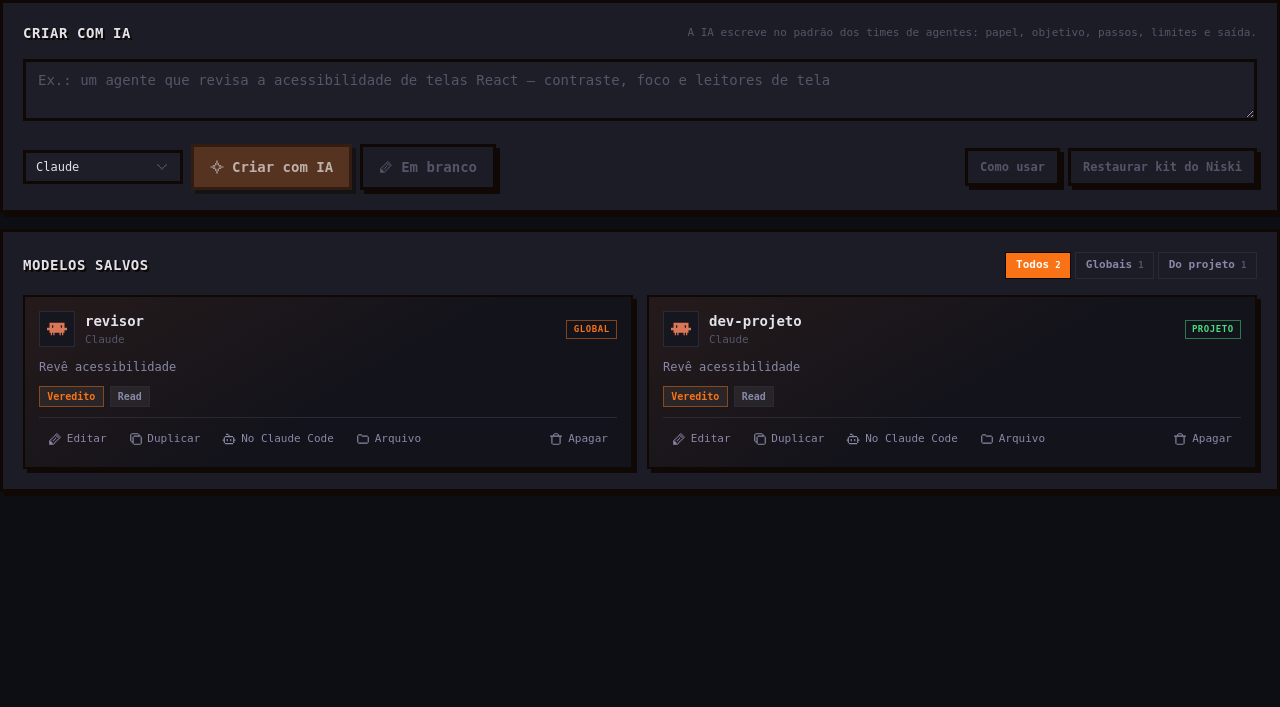
Scenario: duplica sem sobrescrever o original
Click the button "Duplicar" below "revisor" at (164, 439), box [120, 426, 209, 452]
(page scrolled)
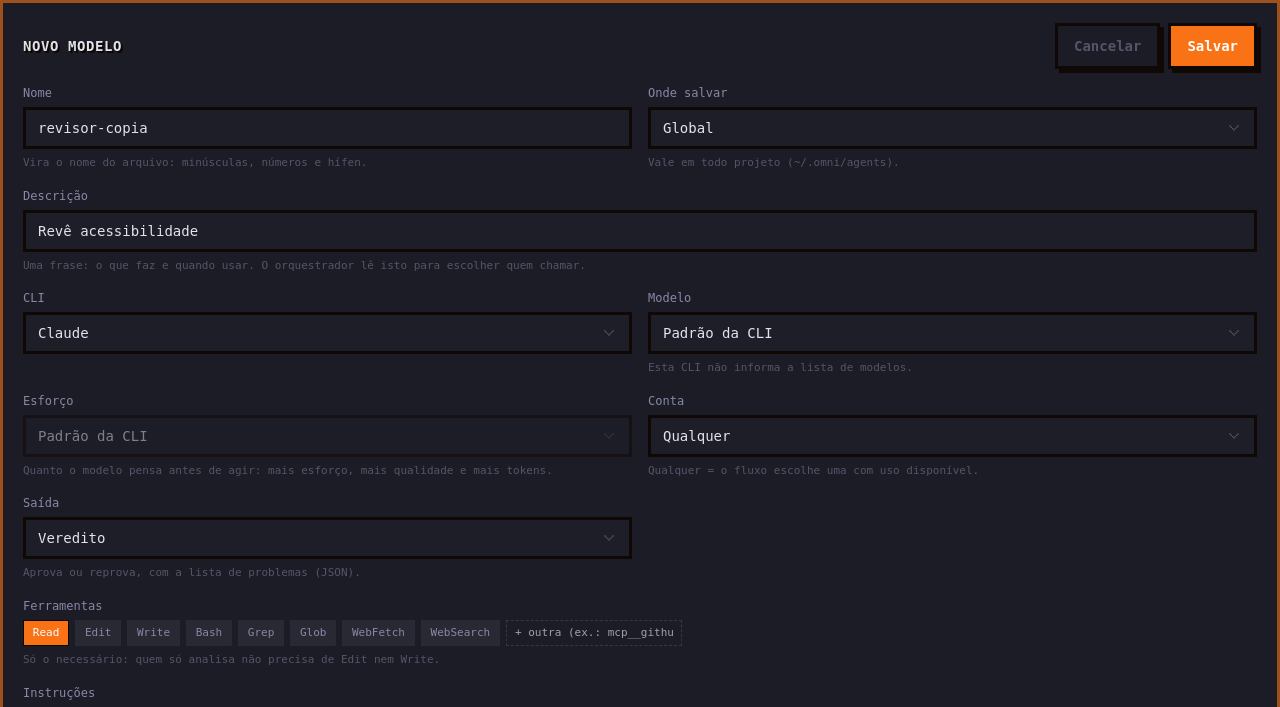
Check: the field labelled "Nome" holds "revisor-copia", box [23, 107, 632, 149]
Click the button "Salvar" at (1213, 46), box [1168, 23, 1257, 69]
(page scrolled)
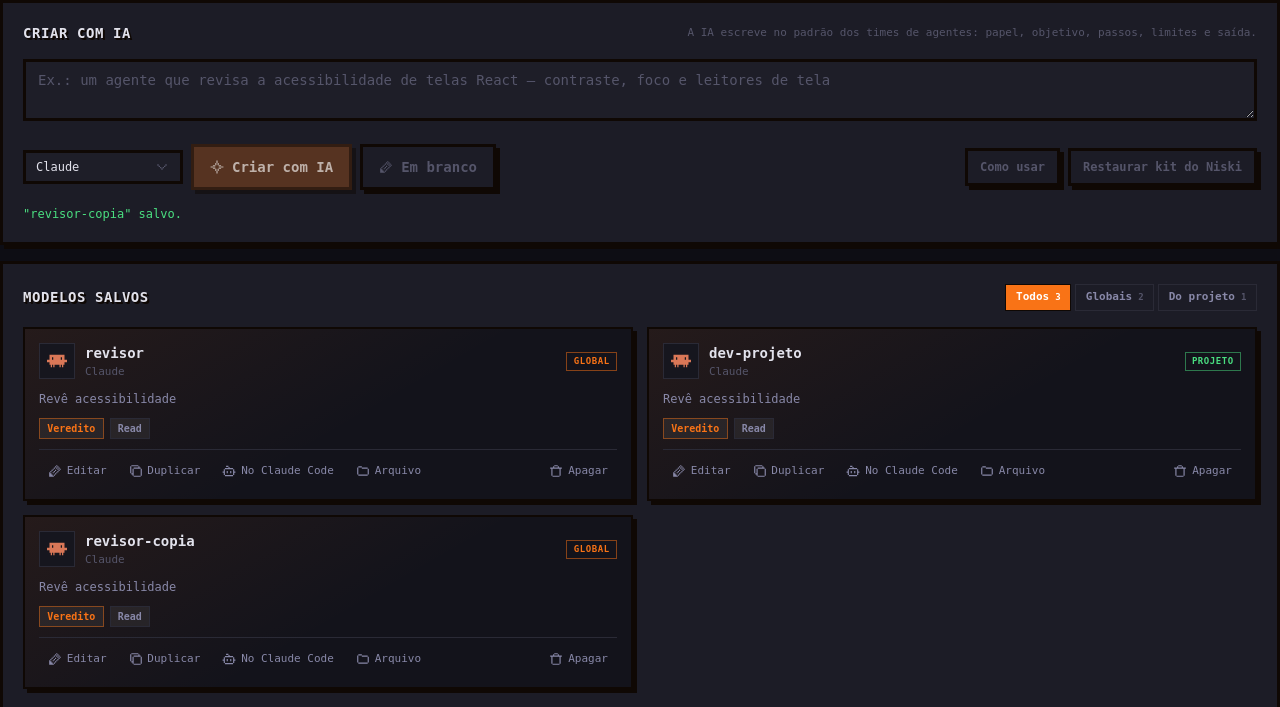
Check: the heading "revisor" is shown, box [85, 344, 144, 360]
Check: the heading "revisor-copia" is shown, box [85, 532, 195, 548]
